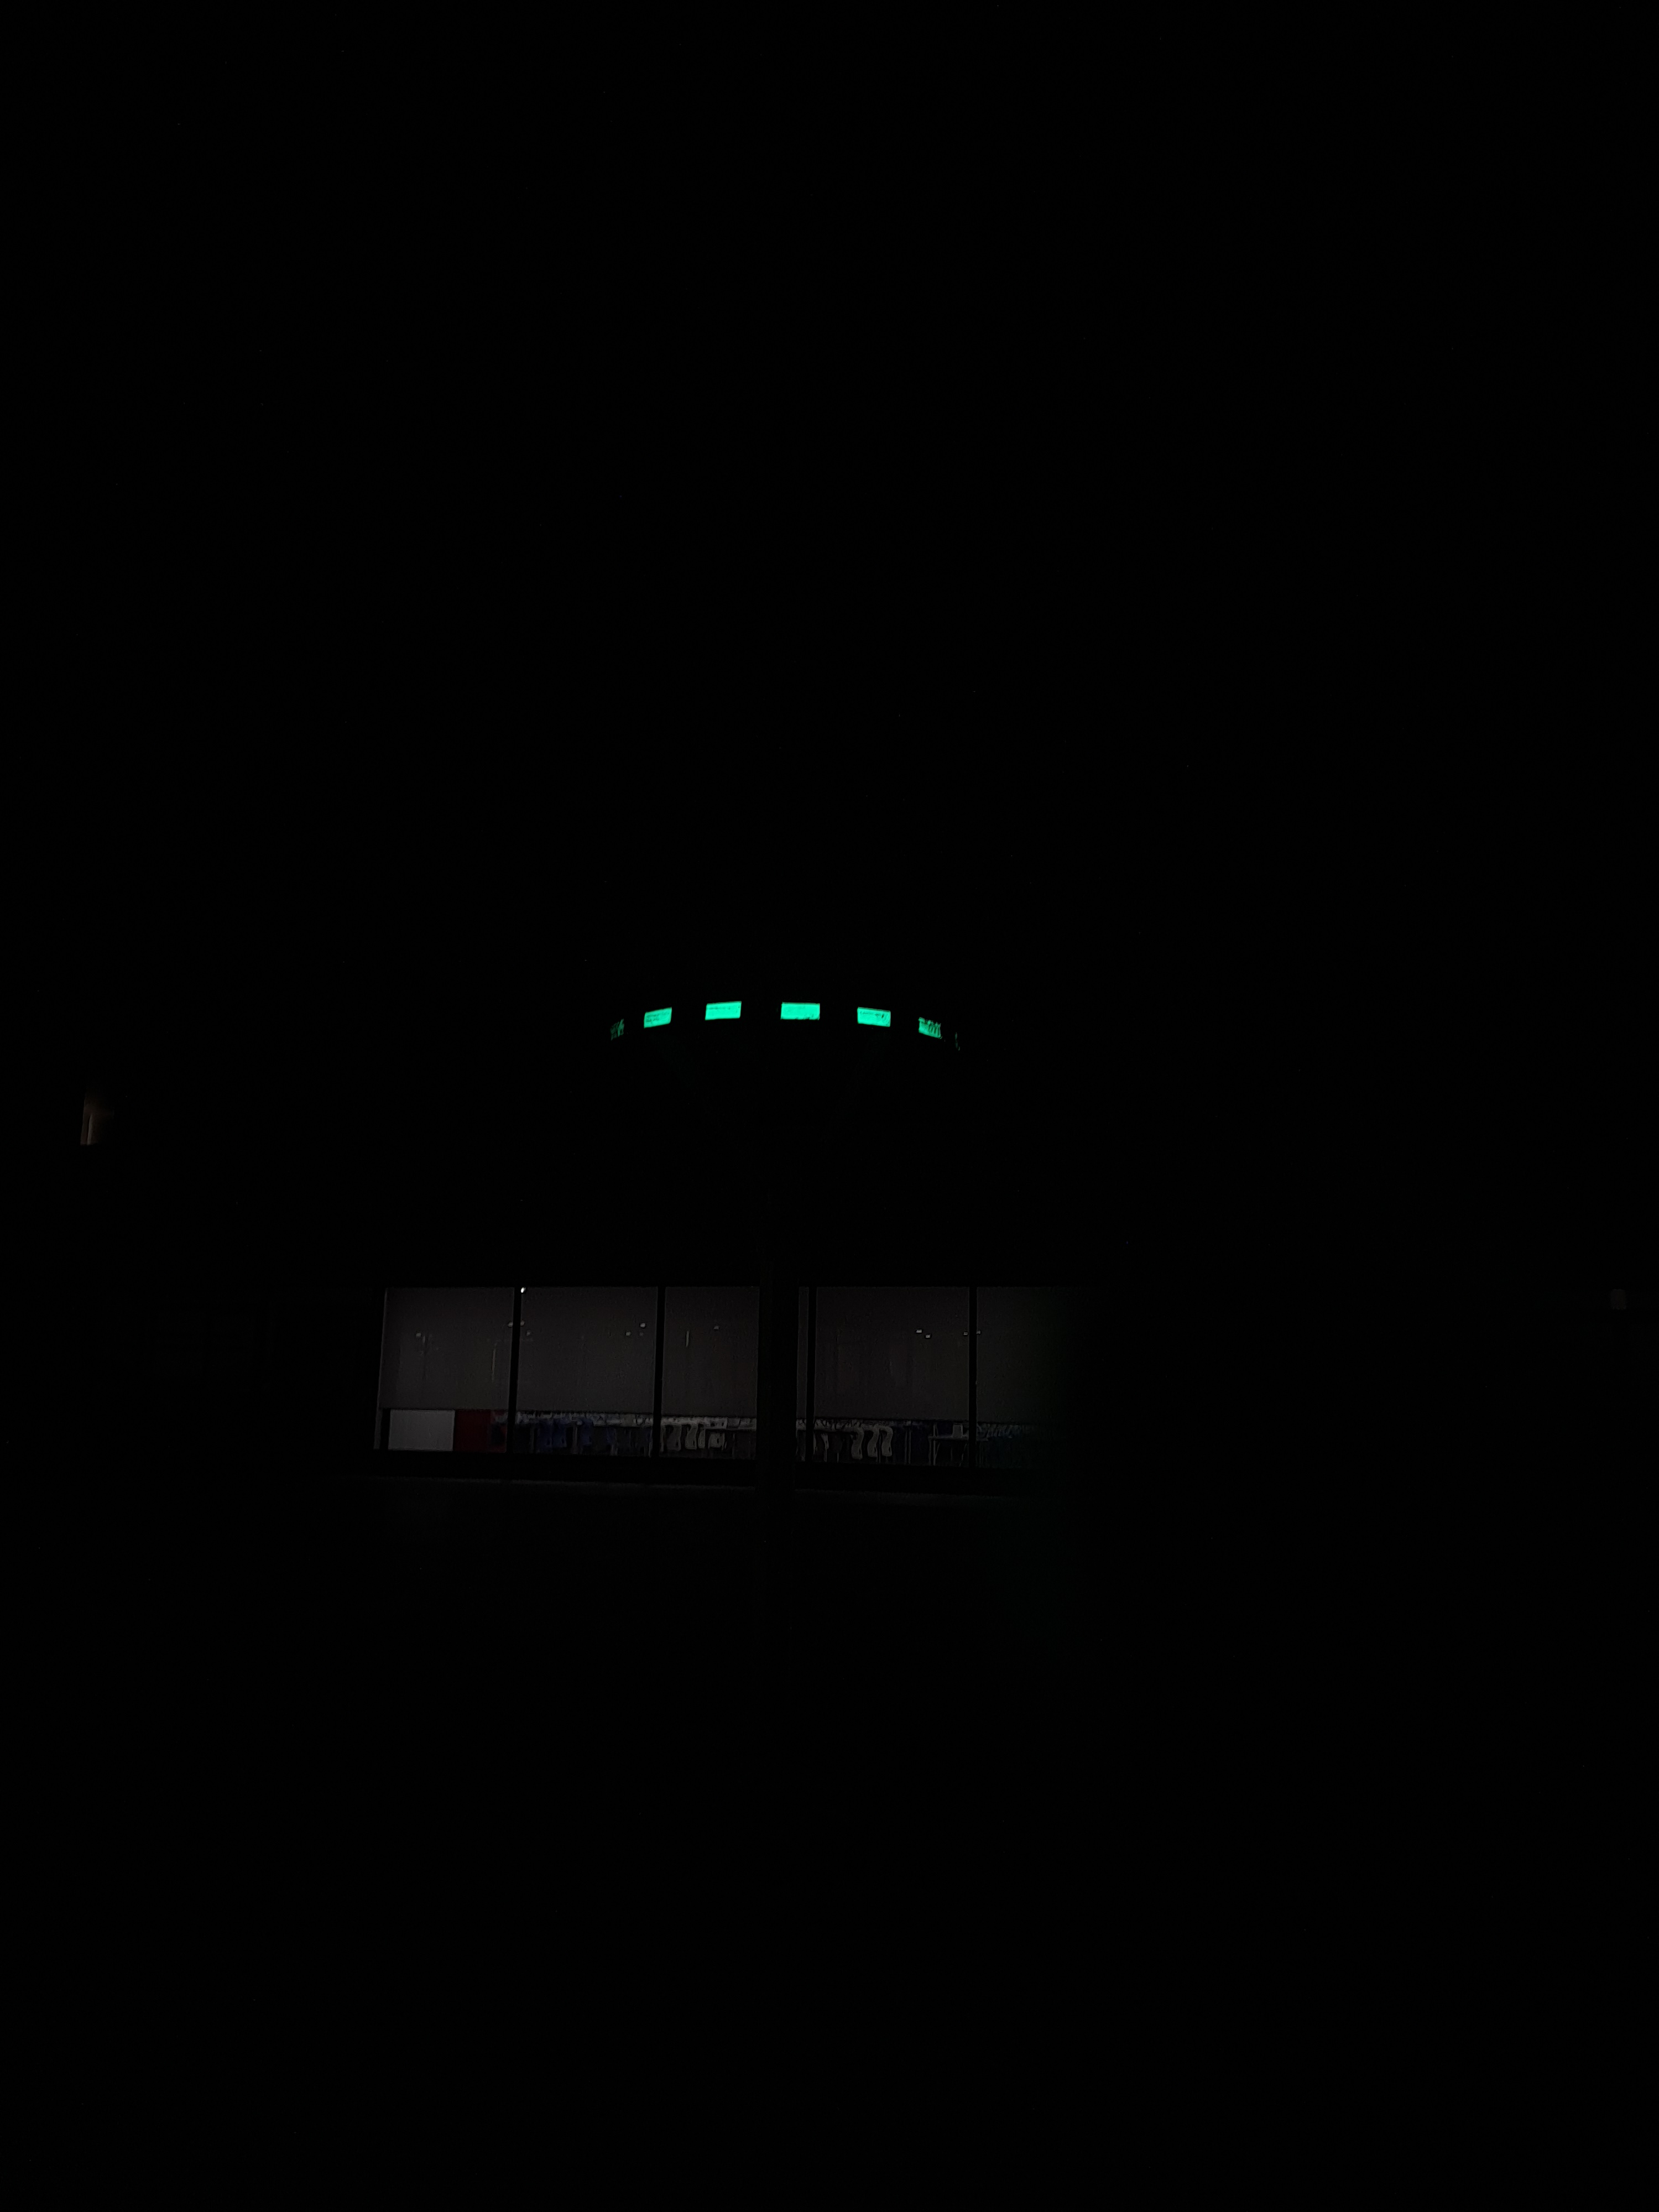hoop: (633, 995, 948, 1050)
